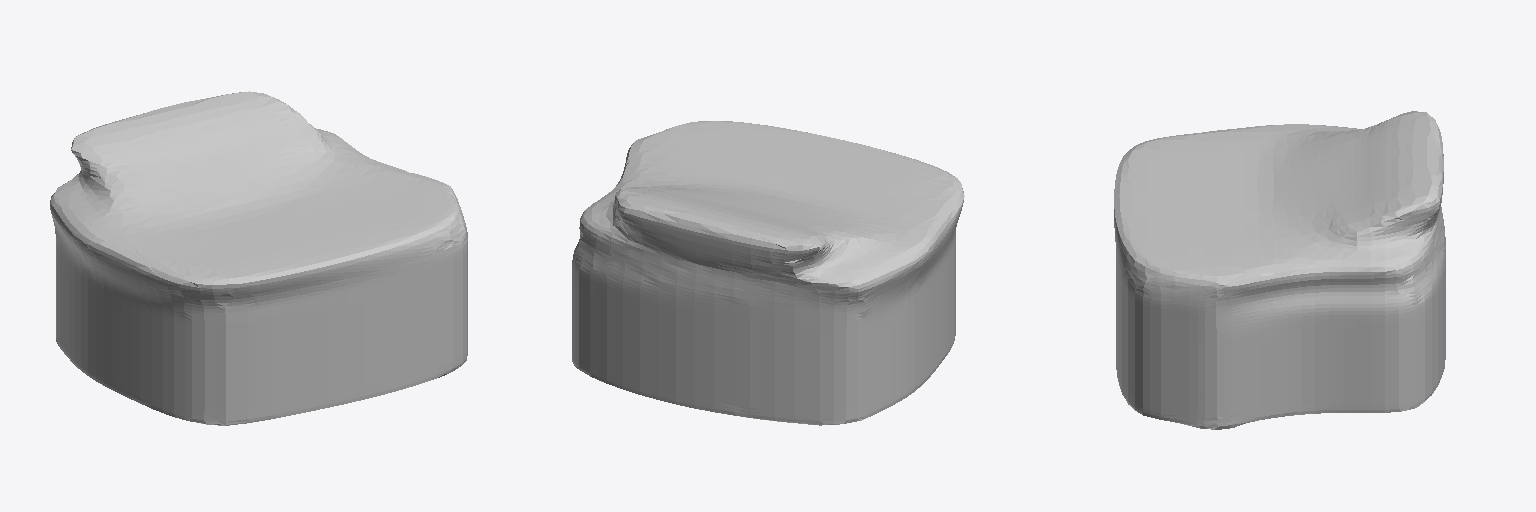
The model's file is groundedramp.obj.
3 renders of one model, left to right at view 1: azimuth 30°, elevation 25°; view 2: azimuth 150°, elevation 25°; view 3: azimuth 270°, elevation 25°, orthographic.
Parts seen in each view (by area): view 1: ground; view 2: ground; view 3: ground.
Part boxes in pixels (left/top/right/bottom): ground: left=50, top=91, right=467, bottom=425; ground: left=572, top=121, right=964, bottom=425; ground: left=1114, top=111, right=1445, bottom=429.
Bounding box in the file's own units: 18.06 × 9.87 × 15.73.